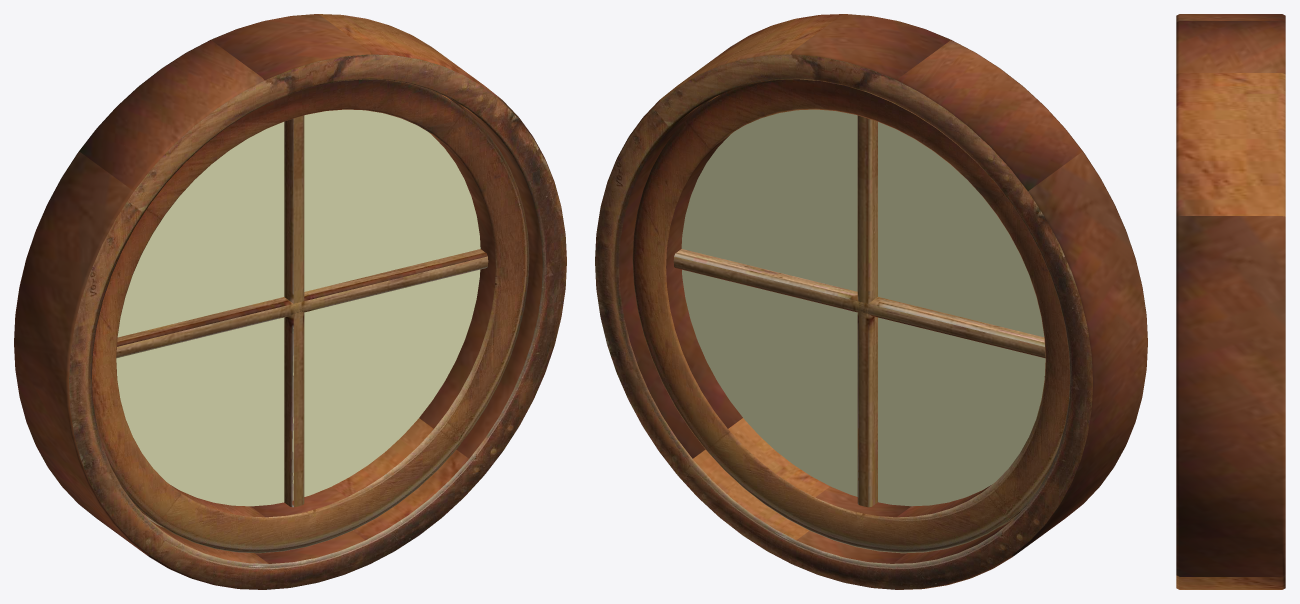
The model's file is RoundWindowWoodWithBars01.fbx.
3 renders of one model, left to right at view 1: azimuth 30°, elevation 25°; view 2: azimuth 150°, elevation 25°; view 3: azimuth 270°, elevation 25°, orthographic.
Parts seen in each view (by area): view 1: default; view 2: default; view 3: default.
Part boxes in pixels (box(x1,y1,x2,y2)): default: box(14, 14, 566, 589); default: box(595, 14, 1147, 589); default: box(1176, 14, 1285, 589).
Size of the model in its own units: 121 by 121 by 23.03.
